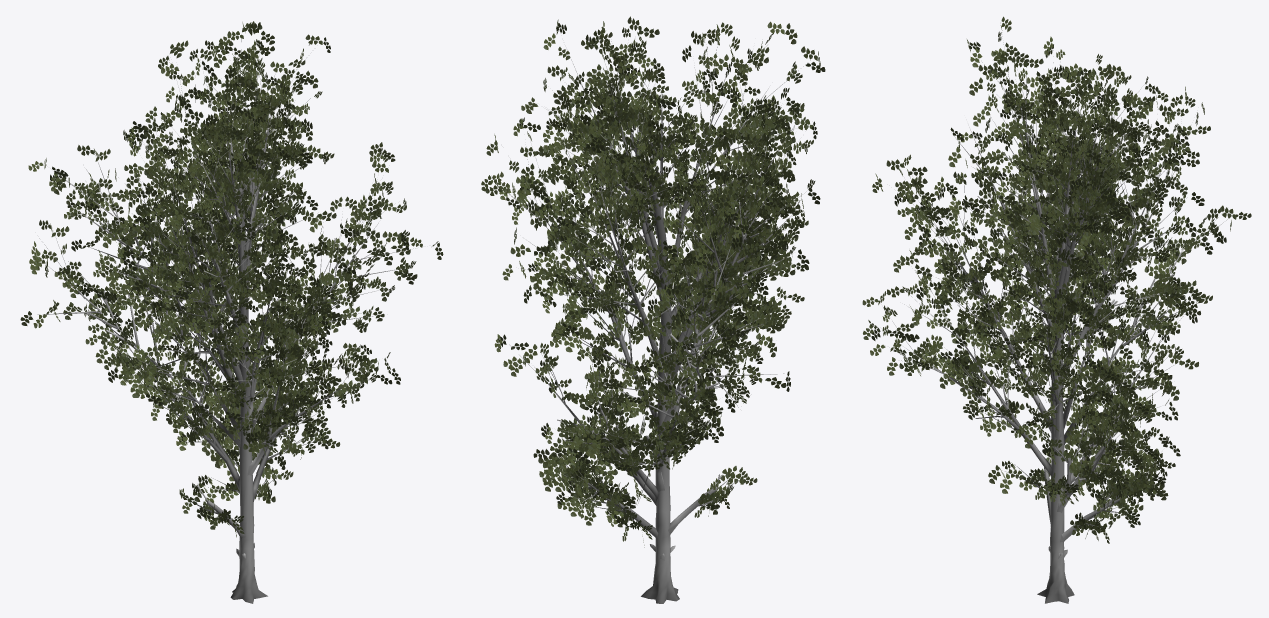
File: BlackCW_Short_mdl.fbx
3 renders of one model, left to right at view 1: azimuth 30°, elevation 25°; view 2: azimuth 150°, elevation 25°; view 3: azimuth 270°, elevation 25°, orthographic. The views are drawn at different scales.
Visible parts, largest first — view 1: BlackCW_Short_LOD0; view 2: BlackCW_Short_LOD0; view 3: BlackCW_Short_LOD0.
Boxes of the visible parts, x1,y1,x2,y2 form: BlackCW_Short_LOD0: (20,21,443,603); BlackCW_Short_LOD0: (481,16,825,603); BlackCW_Short_LOD0: (862,16,1251,603).
Bounding box in the file's own units: 1386 × 2055 × 1347.
